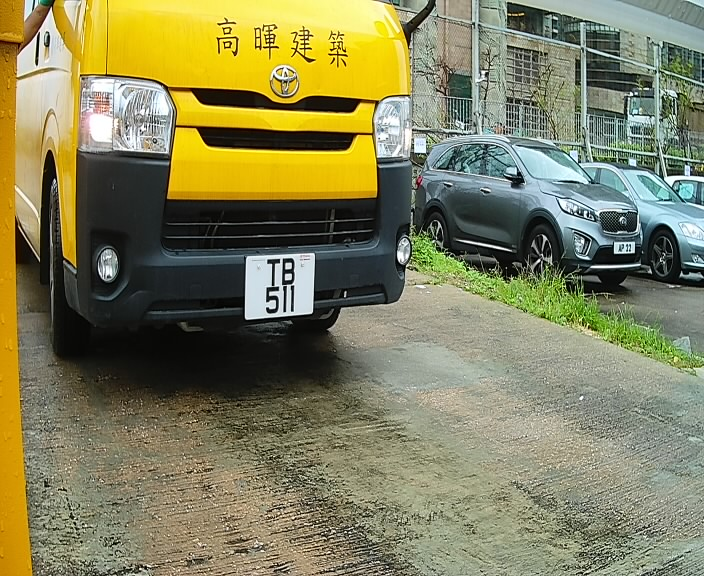Car: (13, 2, 416, 392)
License Plate: (240, 247, 323, 327)
